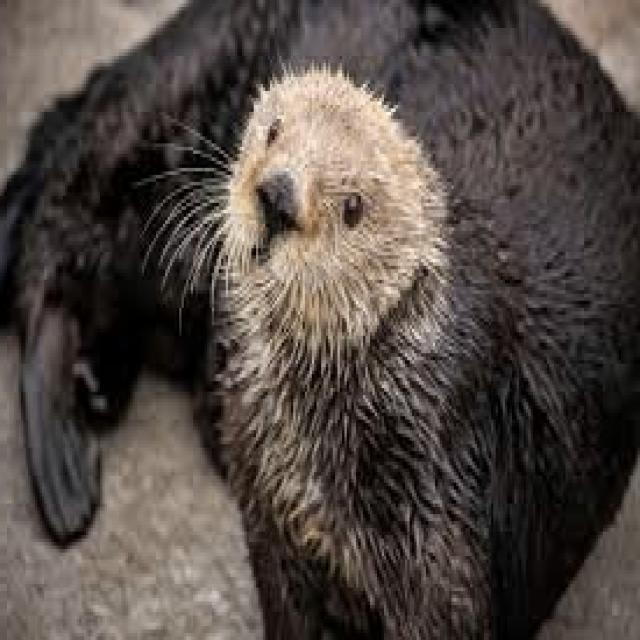otter: (2, 0, 640, 637)
